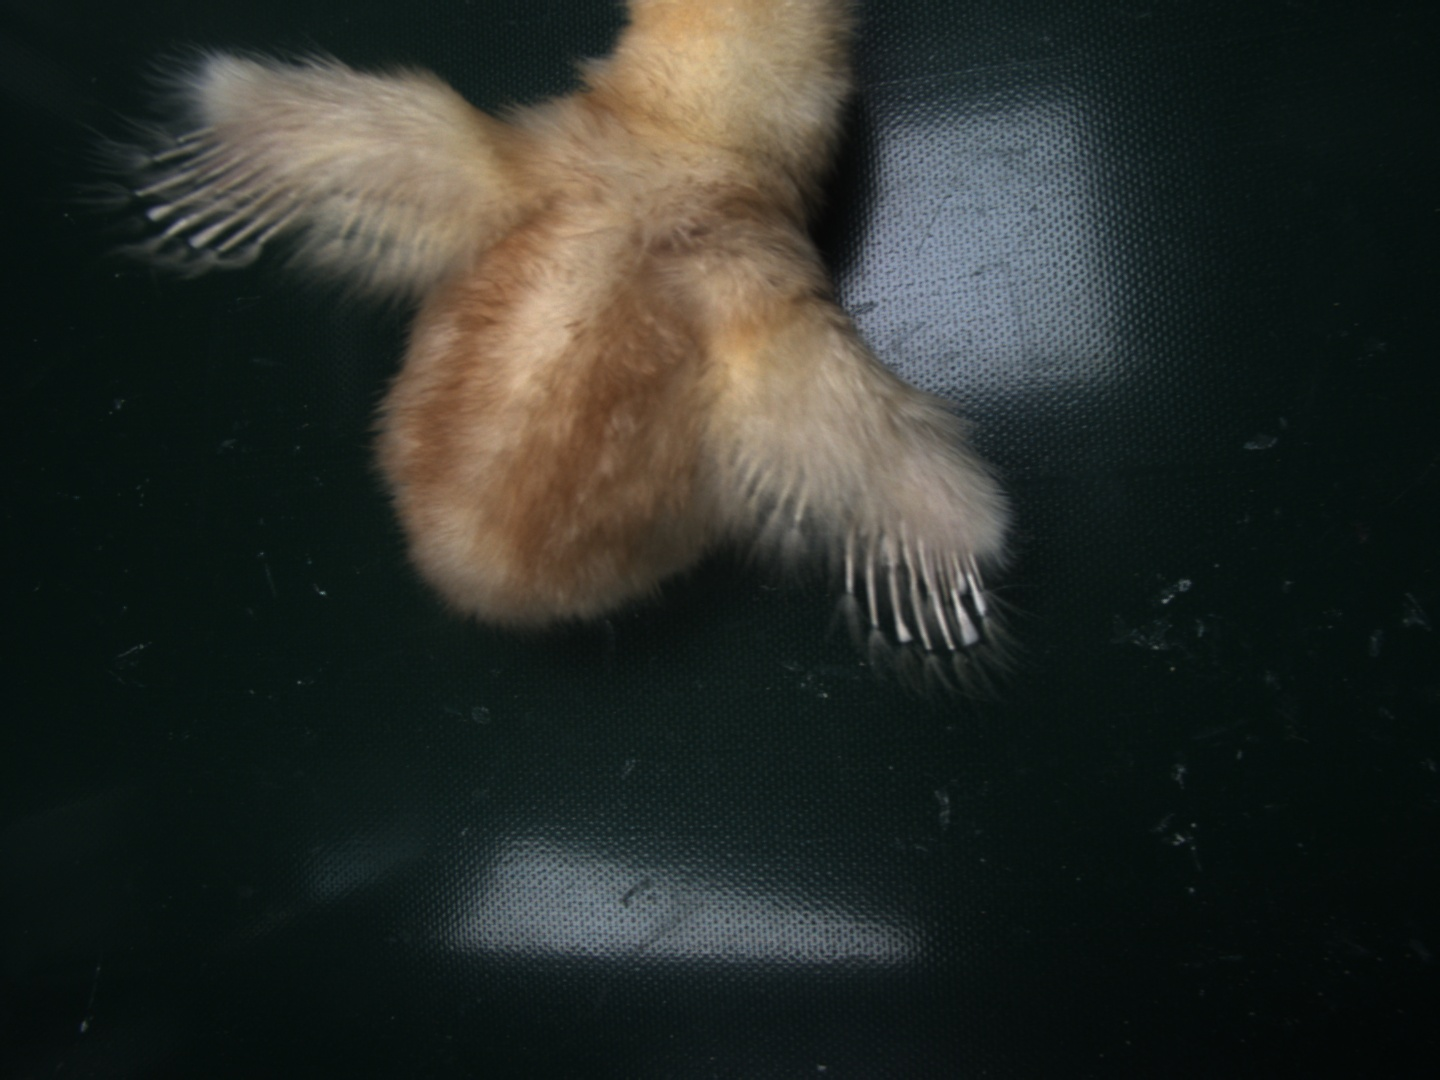female: (139, 125, 300, 252), (841, 518, 991, 650)
